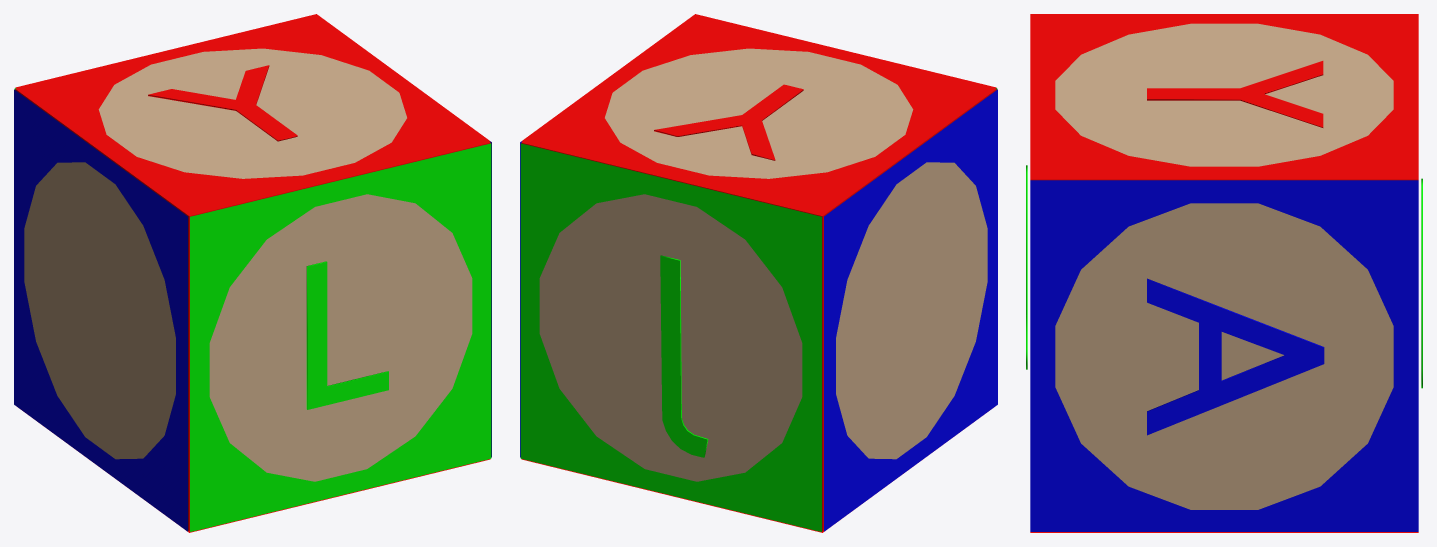
3 renders of one model, left to right at view 1: azimuth 30°, elevation 25°; view 2: azimuth 150°, elevation 25°; view 3: azimuth 270°, elevation 25°, orthographic. The views are drawn at different scales.
Parts seen in each view (by area): view 1: cube; view 2: cube; view 3: cube.
Boxes of the visible parts, <box> form: cube: <box>14,14,491,532</box>; cube: <box>520,14,997,532</box>; cube: <box>1026,14,1422,532</box>.
Size of the model in its own units: 0.0458 by 0.046 by 0.046.
